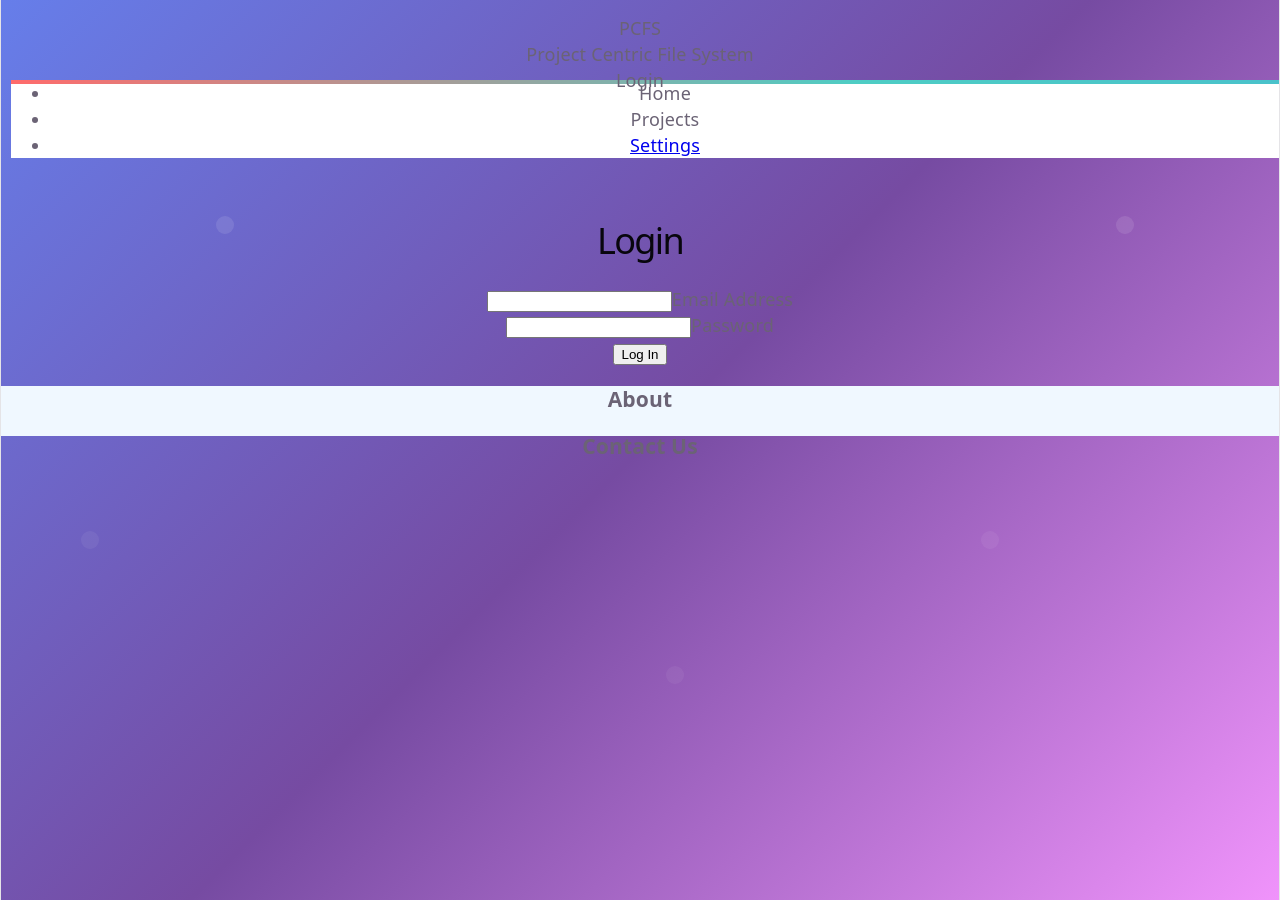
Test: Login form › shows error when password is empty
This screenshot has width=1280, height=900.
Expected: the button with test id "login-button" is shown, x1=614 y1=344 x2=667 y2=365
Type "john@mail.com" into the field with test id "email-input" at (579, 302), box x1=487 y1=291 x2=672 y2=312
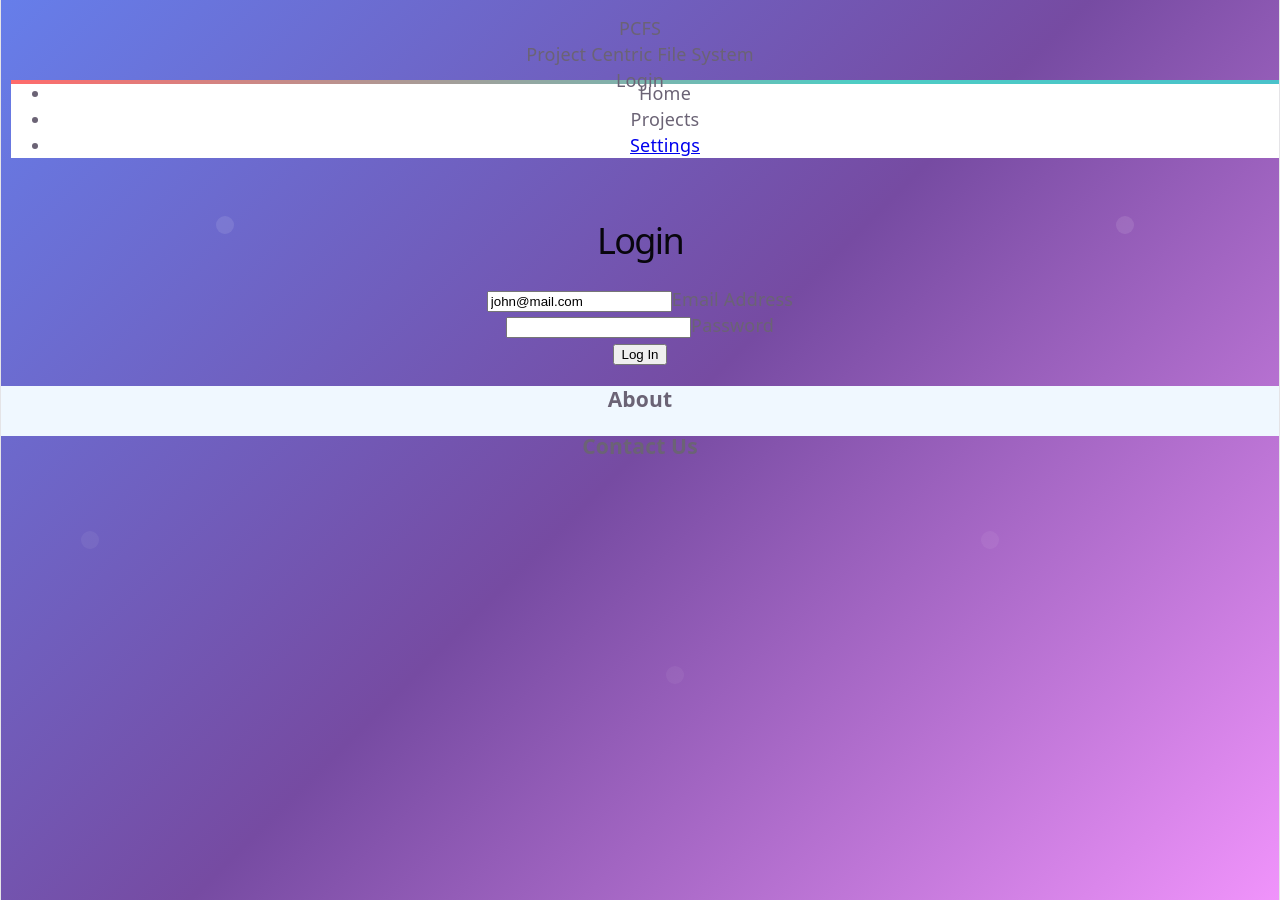
Click the button with test id "login-button" at (640, 354), box x1=614 y1=344 x2=667 y2=365
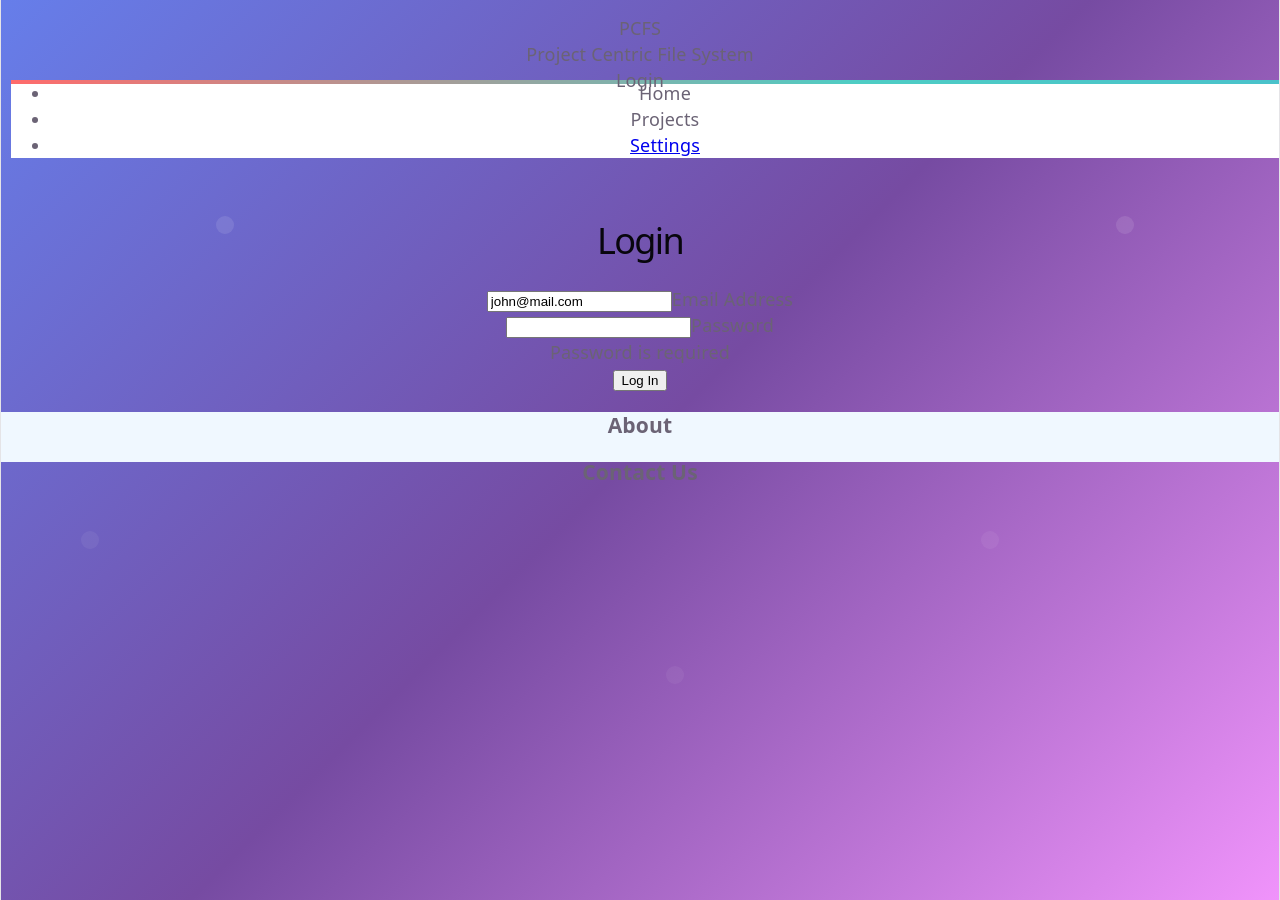
Expected: the text "Password is required" is shown, x1=550 y1=340 x2=730 y2=364
